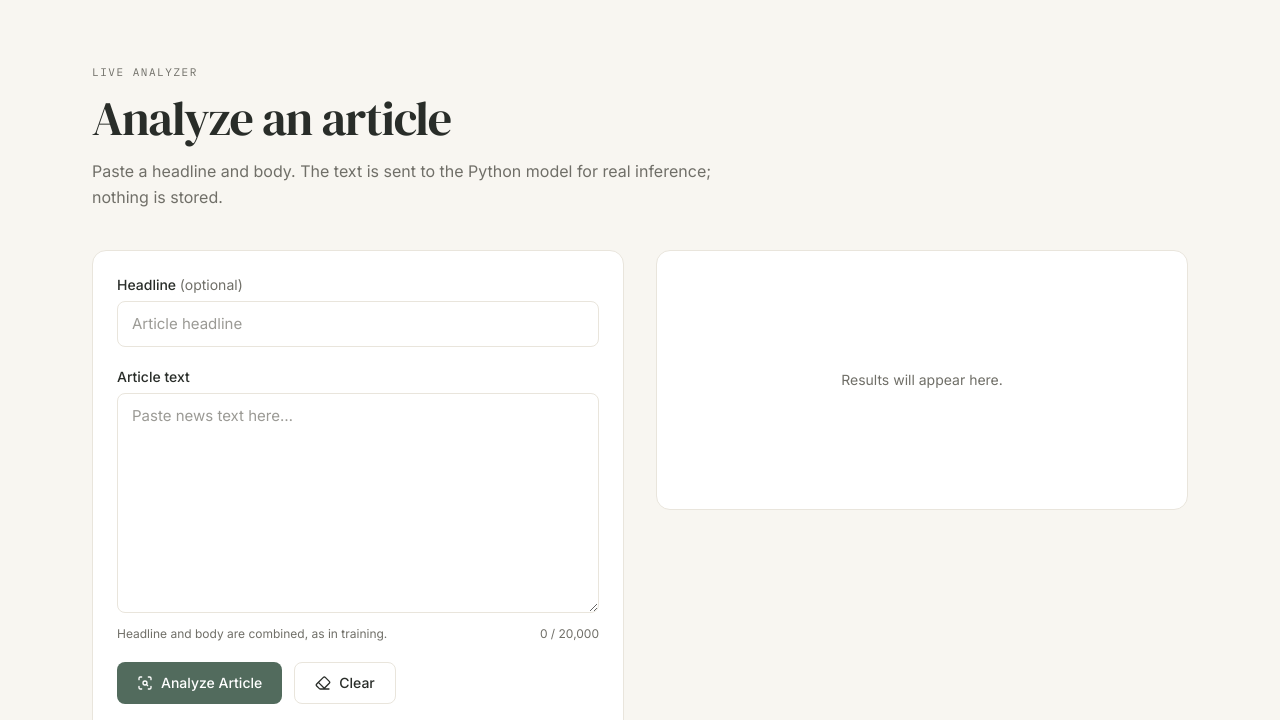
Scenario: Analyzer workflow › shows an error (no fake result) when the API fails
Type "hello world" into the text box labelled "Article text".
click(358, 503); type("hello world")  # box x1=117 y1=393 x2=599 y2=613
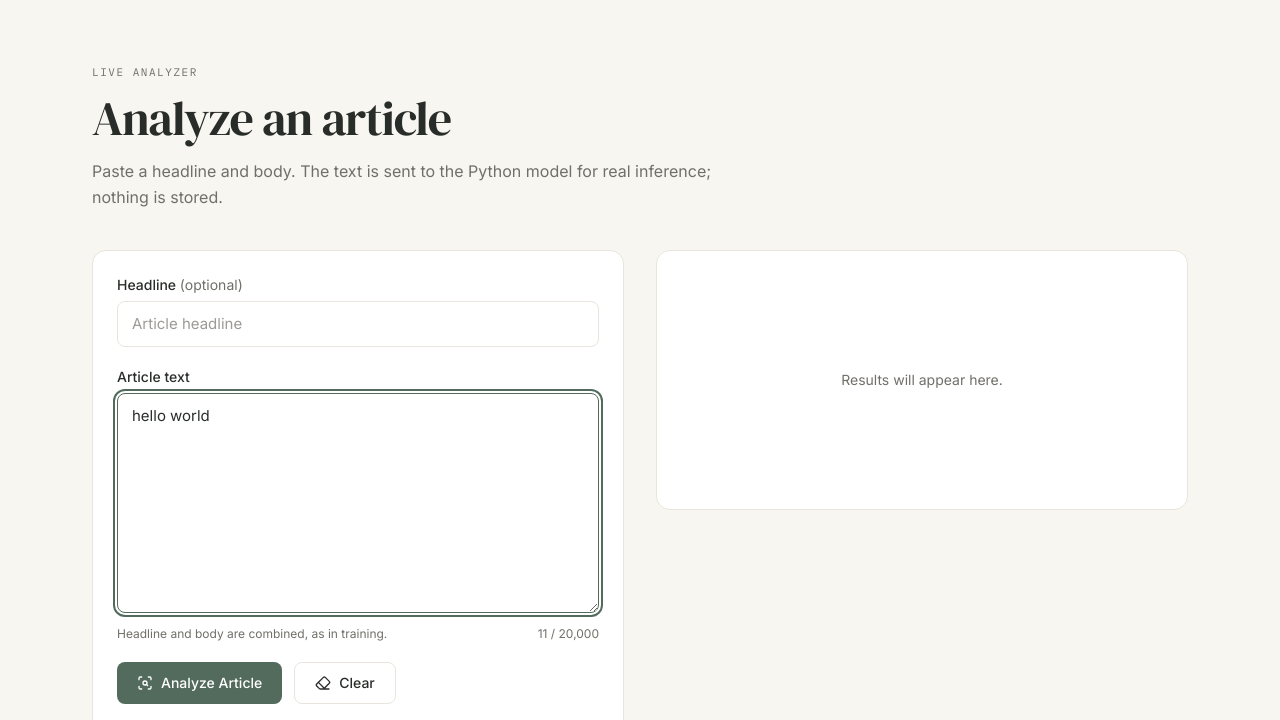
Click the button "Analyze Article".
click(200, 683)  # box x1=117 y1=662 x2=282 y2=704
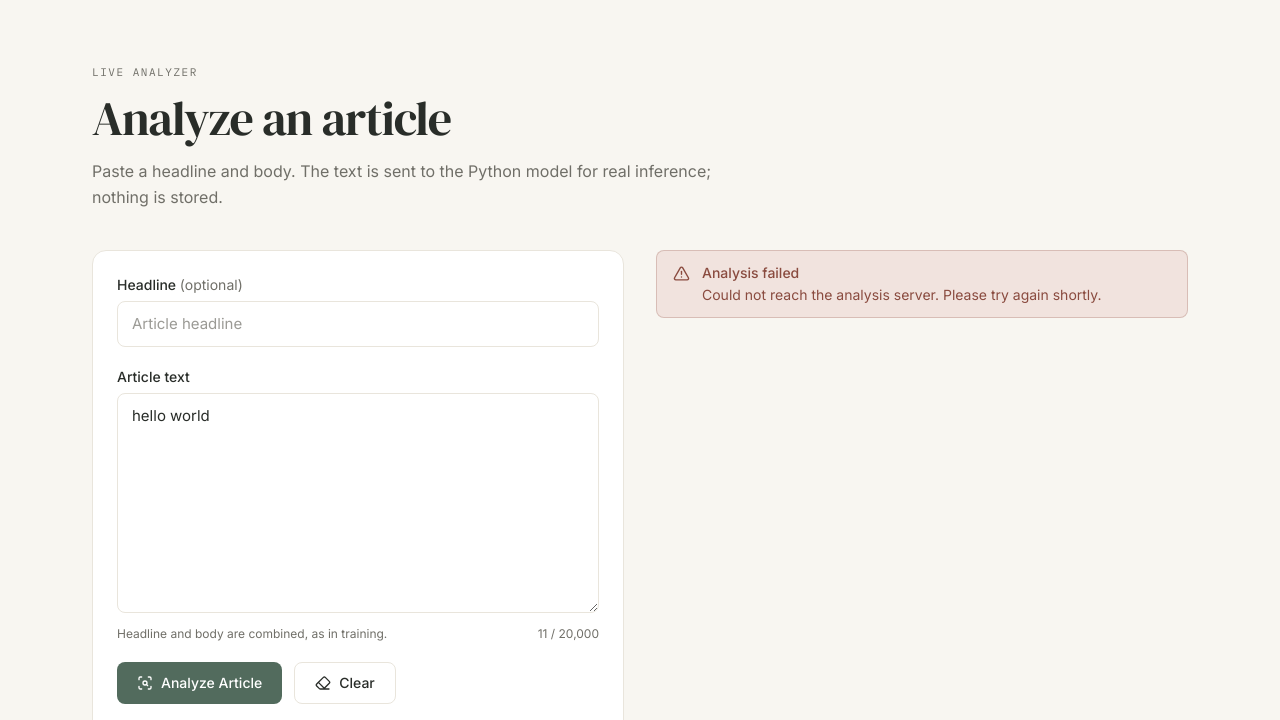
Expected: the message shows "Could not reach", x1=702 y1=286 x2=1102 y2=303
